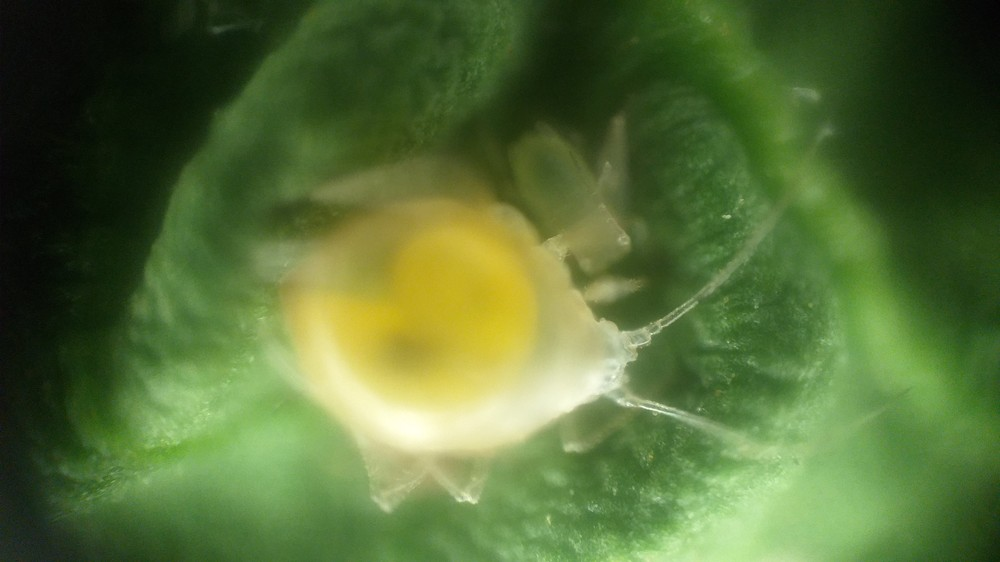Pulgon: (234, 137, 909, 514)
